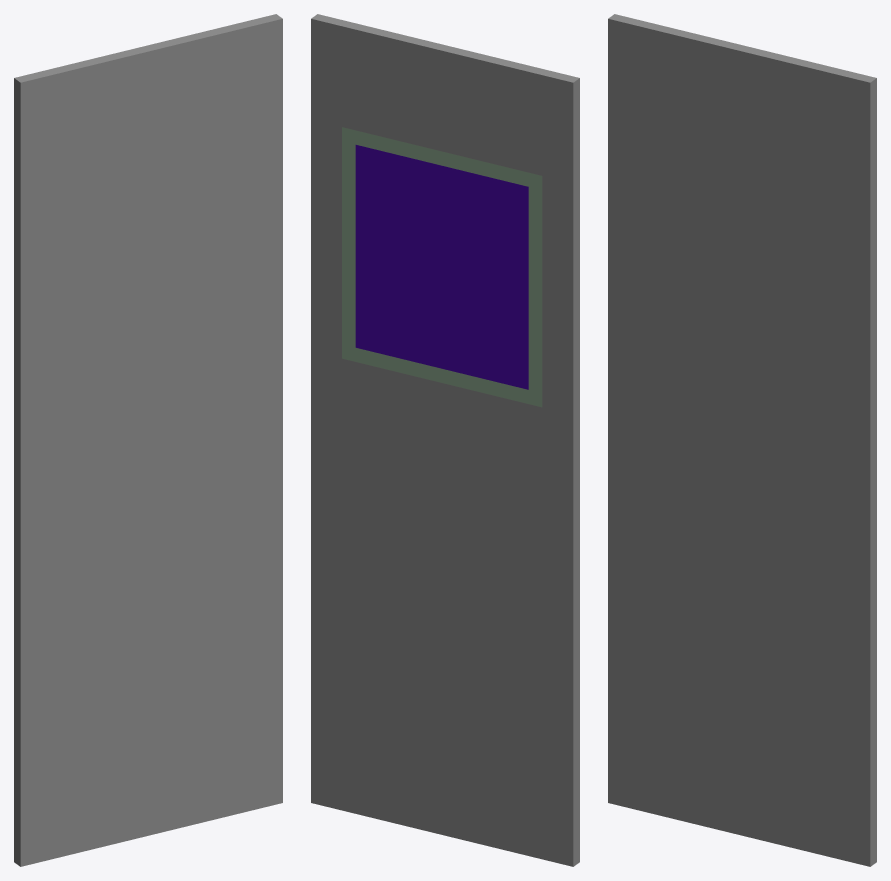
File: porte.fbx
3 views of the same model, side by side, from view 1: azimuth 30°, elevation 25°; view 2: azimuth 150°, elevation 25°; view 3: azimuth 330°, elevation 25° (orthographic).
Visible parts, largest first — view 1: Box004; view 2: Box004; view 3: Box004.
Boxes of the visible parts, box(x1,y1,x2,y2) form: Box004: box(14, 14, 282, 866); Box004: box(311, 14, 579, 866); Box004: box(608, 14, 876, 866).
Size of the model in its own units: 70 by 200 by 3.
